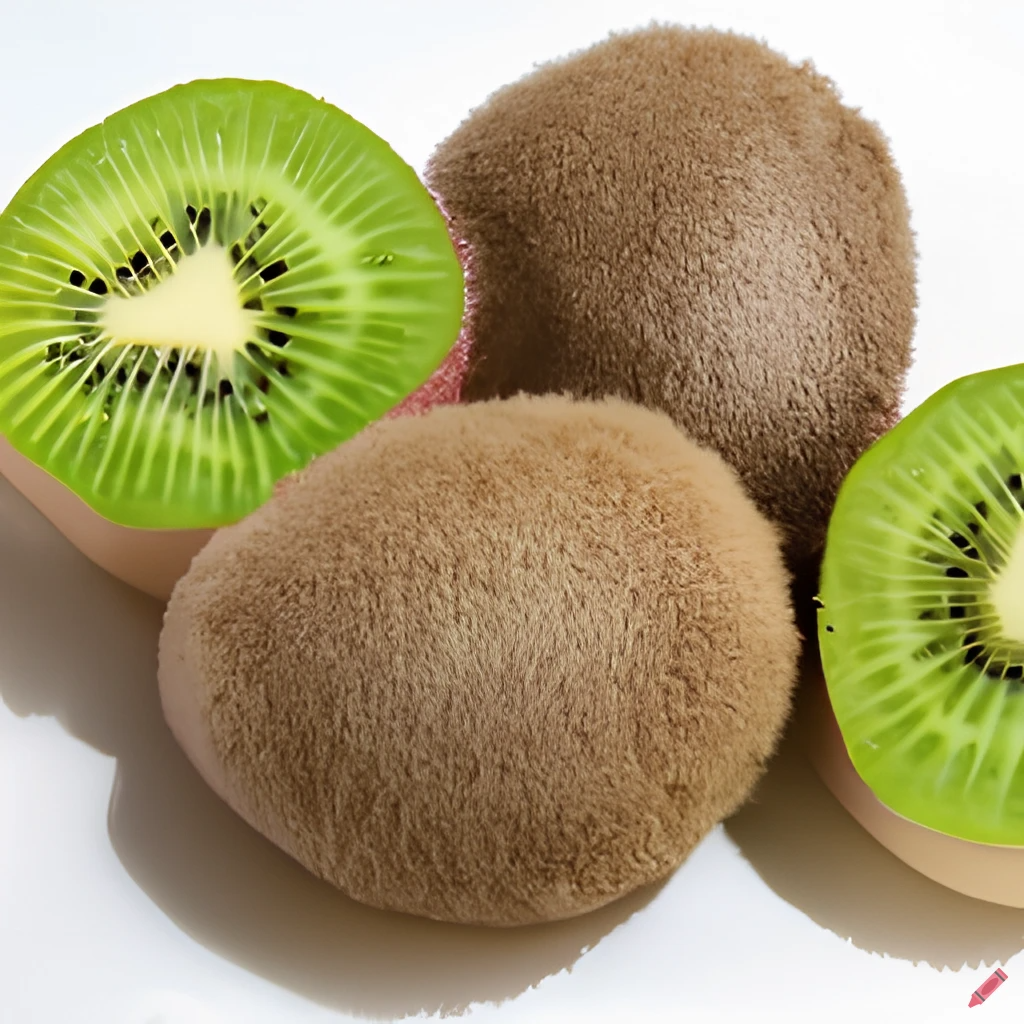Kiwi: (84, 394, 822, 908), (0, 56, 514, 580), (377, 38, 900, 476)
